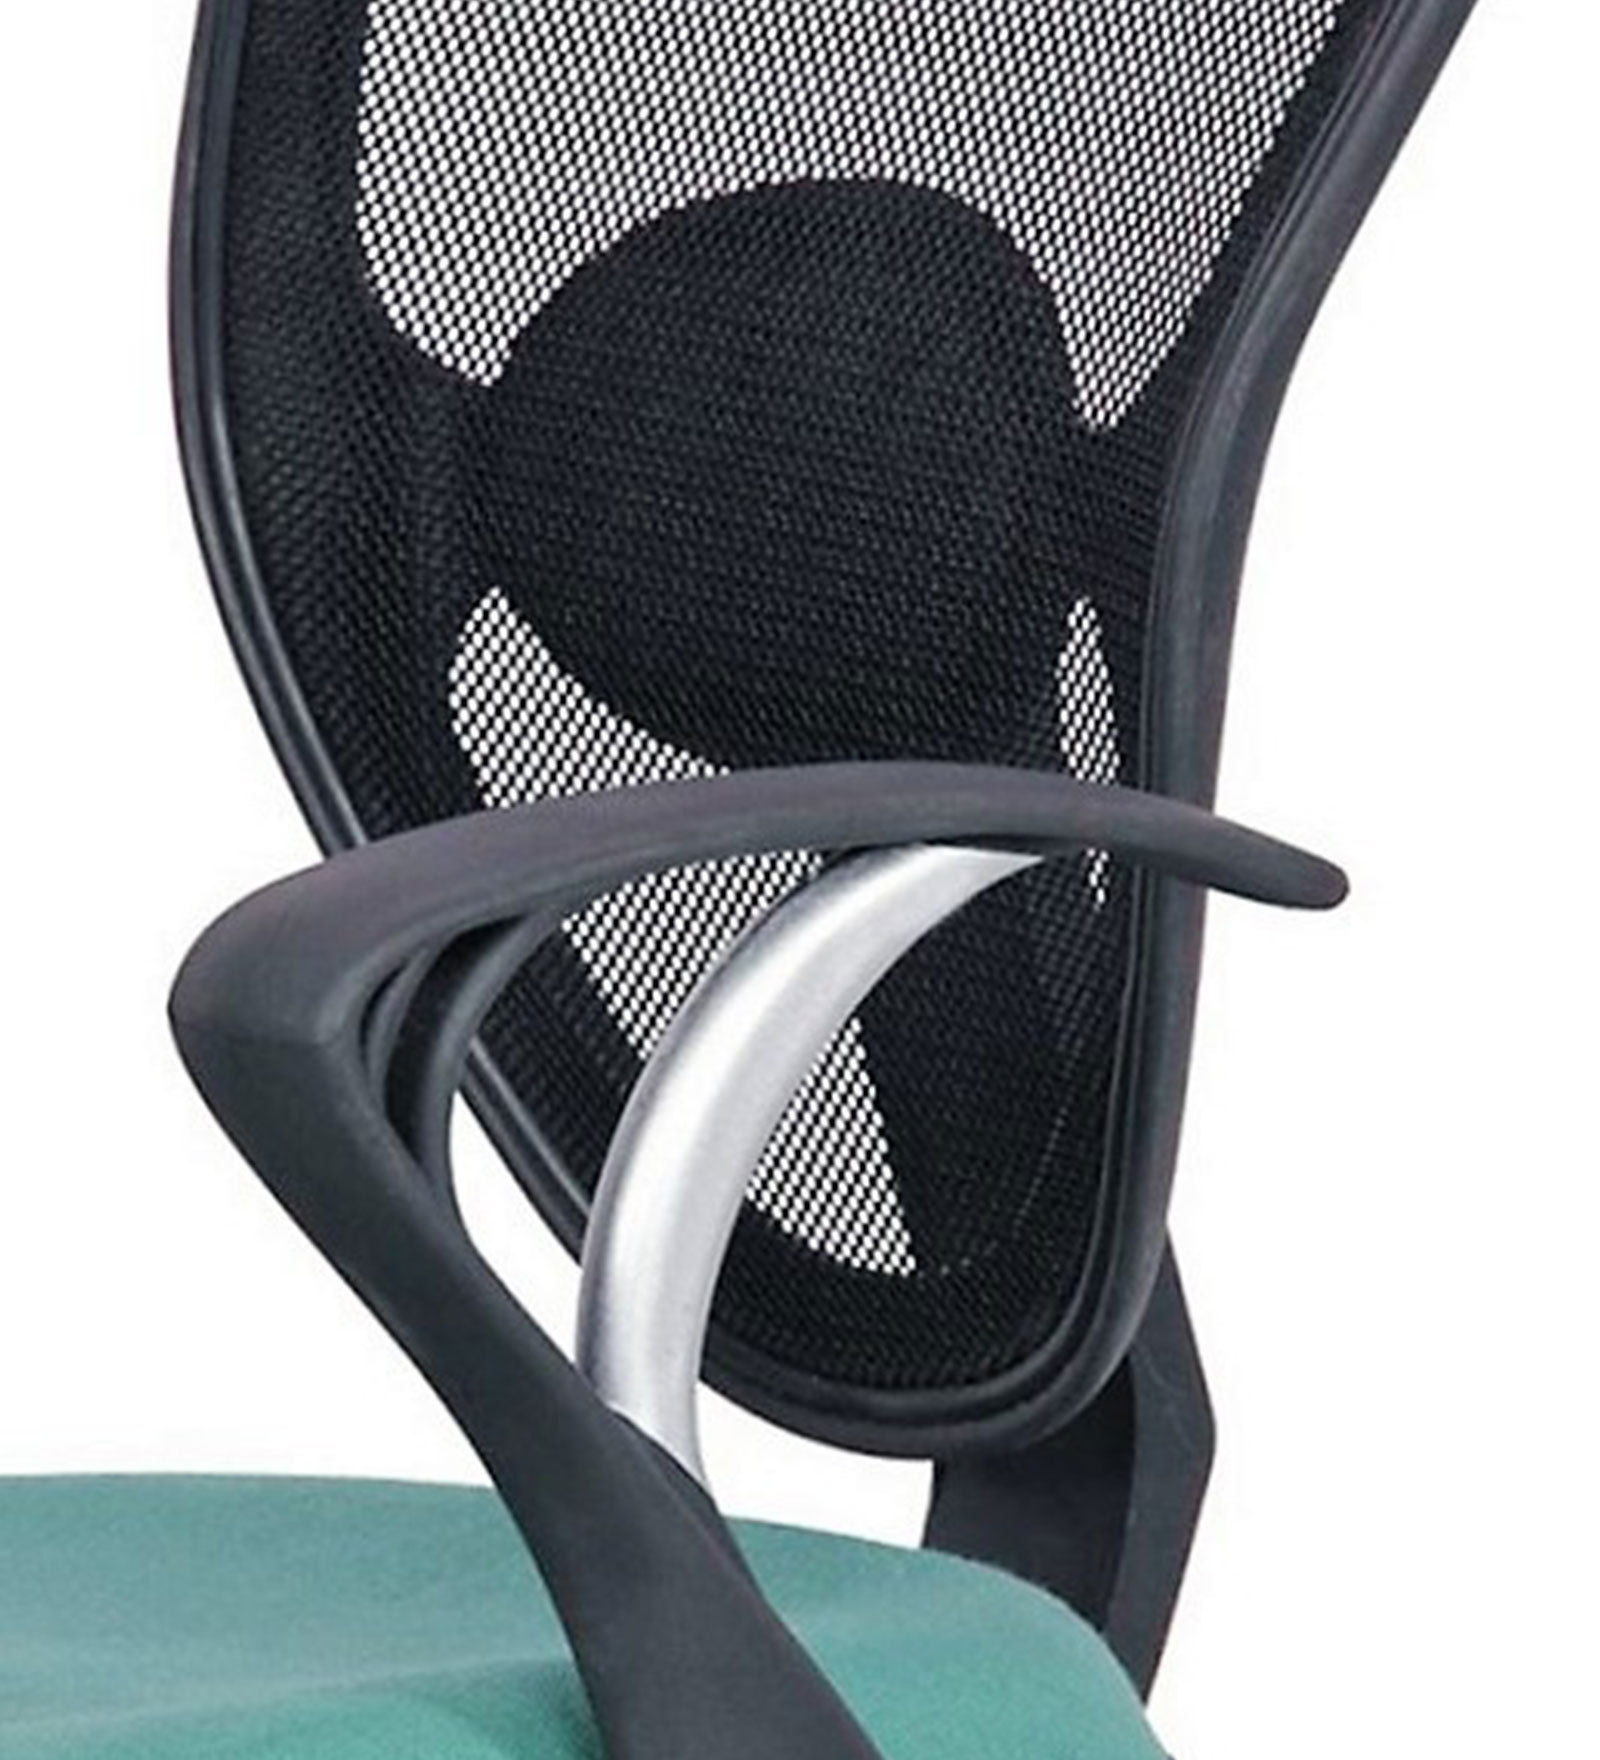Triangular Back Ergonomic Chair with Green Seat by Adiko Systems: (124, 2, 1468, 1719)
